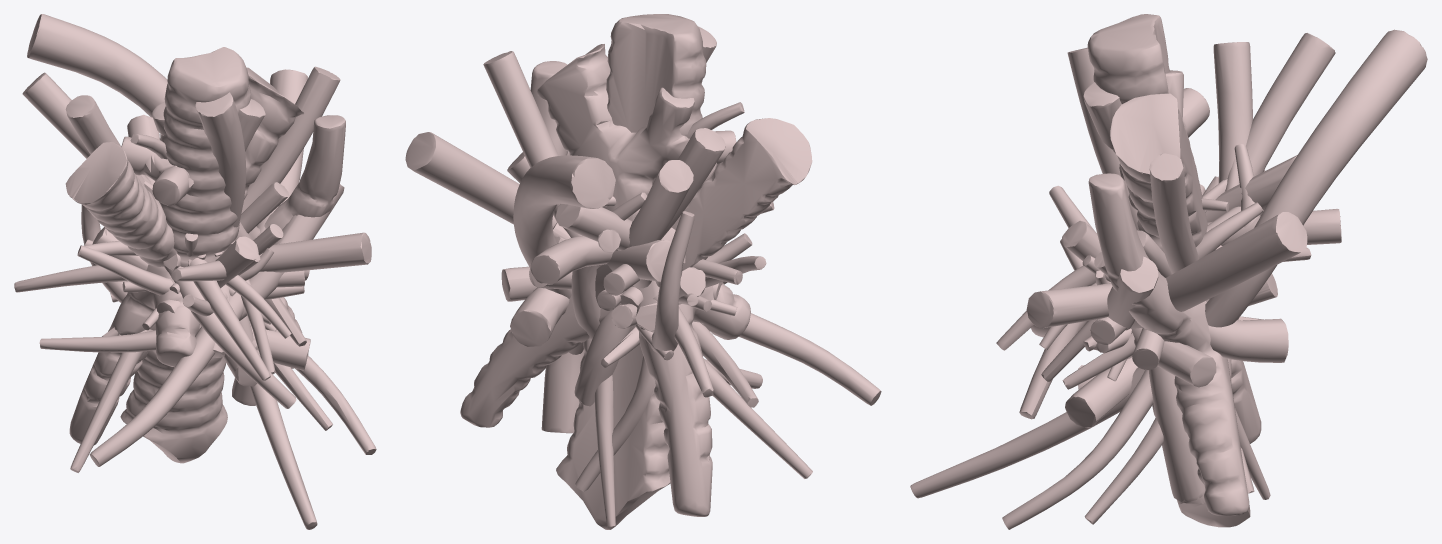
File: respiratory.glb
3 views of the same model, side by side, from view 1: azimuth 30°, elevation 25°; view 2: azimuth 150°, elevation 25°; view 3: azimuth 270°, elevation 25° (orthographic). The views are drawn at different scales.
Parts seen in each view (by area): view 1: trachea, right_main_bronchus_proper, left_main_bronchus, inferior_lingular_bronchial_tree, lateral_segmental_bronchial_tree (×2), left_posterior_basal_segmental_bronchial_tree (×3), right_lateral_basal_segmental_bronchial_tree, right_superior_segmental_bronchial_tree, left_medial_basal_segmental_bronchial_tree, right_anterior_basal_segmental_bronchial_tree, medial_segmental_bronchial_tree (×2), left_anterior_segmental_bronchial_tree (×2) (+7 smaller); view 2: right_main_bronchus_proper, trachea, left_main_bronchus, lateral_segmental_bronchial_tree (×2), inferior_lingular_bronchial_tree, right_lateral_basal_segmental_bronchial_tree, left_anterior_segmental_bronchial_tree (×3), left_apical_segmental_bronchial_tree, left_posterior_basal_segmental_bronchial_tree (×2), left_medial_basal_segmental_bronchial_tree, medial_segmental_bronchial_tree (×2), right_posterior_segmental_bronchial_tree (+9 smaller); view 3: inferior_lingular_bronchial_tree, left_main_bronchus, right_main_bronchus_proper, left_medial_basal_segmental_bronchial_tree, lateral_segmental_bronchial_tree (×2), trachea, left_anterior_segmental_bronchial_tree (×2), left_lateral_basal_segmental_bronchial_tree, left_posterior_basal_segmental_bronchial_tree (×3), medial_segmental_bronchial_tree (×2), right_lateral_basal_segmental_bronchial_tree, left_apical_segmental_bronchial_tree (+9 smaller).
Boxes of the visible parts, box(x1,y1,x2,y2) form: trachea: box(120, 47, 250, 463); right_main_bronchus_proper: box(69, 67, 303, 445); left_main_bronchus: box(65, 115, 345, 368); inferior_lingular_bronchial_tree: box(27, 14, 317, 529); lateral_segmental_bronchial_tree (×2): box(83, 69, 309, 466); left_posterior_basal_segmental_bronchial_tree (×3): box(102, 92, 288, 336); right_lateral_basal_segmental_bronchial_tree: box(70, 66, 340, 472); right_superior_segmental_bronchial_tree: box(14, 232, 371, 292); left_medial_basal_segmental_bronchial_tree: box(22, 72, 376, 454); right_anterior_basal_segmental_bronchial_tree: box(39, 184, 344, 352); medial_segmental_bronchial_tree (×2): box(127, 114, 296, 408); left_anterior_segmental_bronchial_tree (×2): box(171, 258, 270, 380); right_main_bronchus_proper: box(537, 44, 750, 516); trachea: box(556, 14, 706, 529); left_main_bronchus: box(460, 61, 812, 427); lateral_segmental_bronchial_tree (×2): box(405, 132, 881, 405); inferior_lingular_bronchial_tree: box(513, 155, 762, 388); right_lateral_basal_segmental_bronchial_tree: box(483, 51, 812, 478); left_anterior_segmental_bronchial_tree (×3): box(510, 202, 774, 346); left_apical_segmental_bronchial_tree: box(541, 102, 744, 433); left_posterior_basal_segmental_bronchial_tree (×2): box(594, 26, 716, 526); left_medial_basal_segmental_bronchial_tree: box(629, 160, 693, 246); medial_segmental_bronchial_tree (×2): box(529, 203, 752, 289); right_posterior_segmental_bronchial_tree: box(650, 211, 694, 353); inferior_lingular_bronchial_tree: box(910, 29, 1427, 498); left_main_bronchus: box(1088, 173, 1249, 515); right_main_bronchus_proper: box(1110, 70, 1261, 443); left_medial_basal_segmental_bronchial_tree: box(1002, 33, 1335, 529); lateral_segmental_bronchial_tree (×2): box(1031, 184, 1307, 369); trachea: box(1087, 14, 1250, 527); left_anterior_segmental_bronchial_tree (×2): box(996, 185, 1341, 362); left_lateral_basal_segmental_bronchial_tree: box(1084, 42, 1252, 524); left_posterior_basal_segmental_bronchial_tree (×3): box(1062, 47, 1270, 499); medial_segmental_bronchial_tree (×2): box(1019, 155, 1297, 419); right_lateral_basal_segmental_bronchial_tree: box(1149, 153, 1199, 274); left_apical_segmental_bronchial_tree: box(1148, 366, 1205, 501).
Size of the model in its own units: 3034837 by 3891209 by 3671303.
